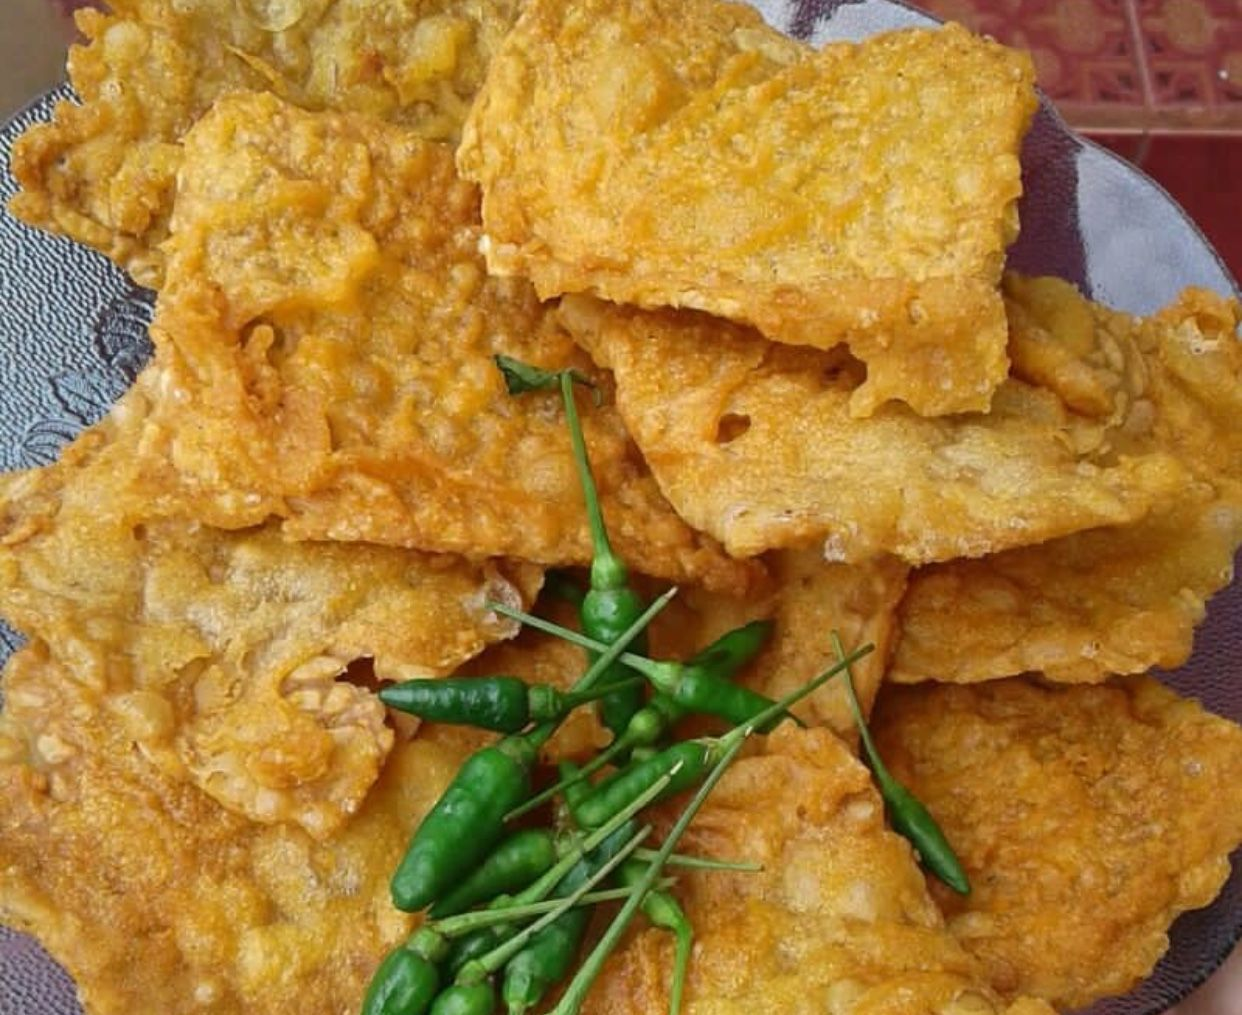Tempe: (168, 108, 629, 549), (622, 262, 1158, 552), (493, 33, 1046, 281)
